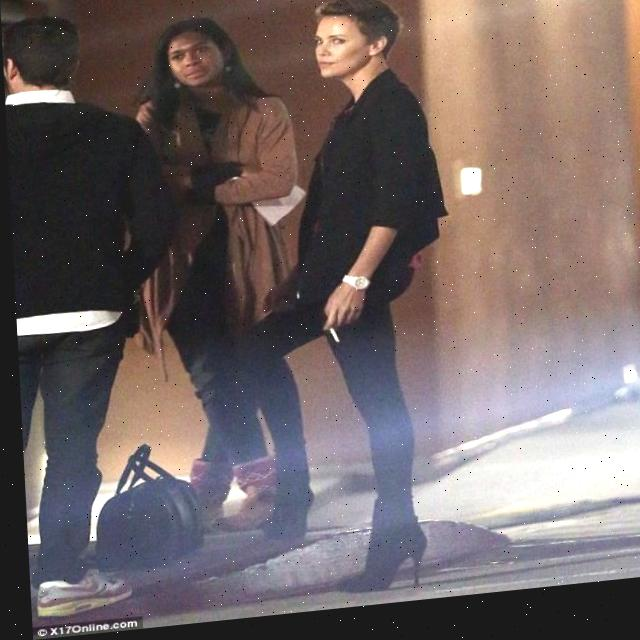cigarette: (323, 333, 337, 351)
